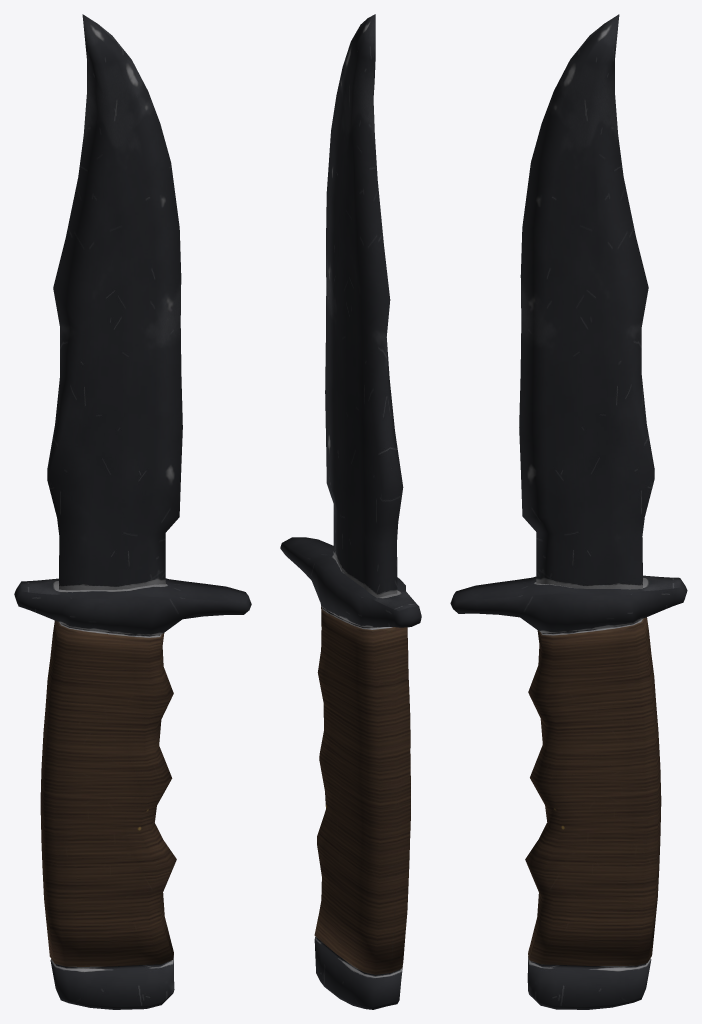
The model's file is knife.glb.
The picture shows the model from 3 angles, left to right: view 1: azimuth 90°, elevation 25°; view 2: azimuth 210°, elevation 25°; view 3: azimuth 270°, elevation 25°; orthographic projection.
Visible parts, largest first — view 1: Plane.001; view 2: Plane.001; view 3: Plane.001.
Boxes of the visible parts, left/top/right/bottom form: Plane.001: left=14, top=14, right=251, bottom=1009; Plane.001: left=280, top=14, right=421, bottom=1009; Plane.001: left=450, top=14, right=687, bottom=1009.
Bounding box in the file's own units: 0.0165 × 0.3067 × 0.0668.
1 material, 1 textured.
